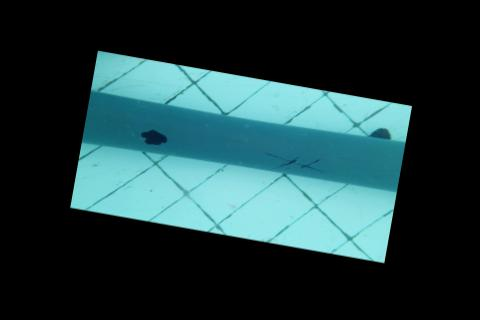kebocoran: (136, 126, 169, 149)
keretakan: (261, 149, 325, 177)
